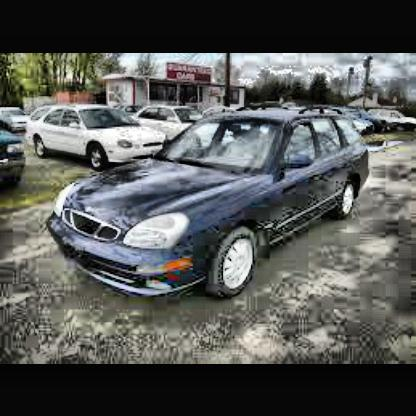Daewoo Nubira Wagon 2002: (49, 108, 373, 305)
